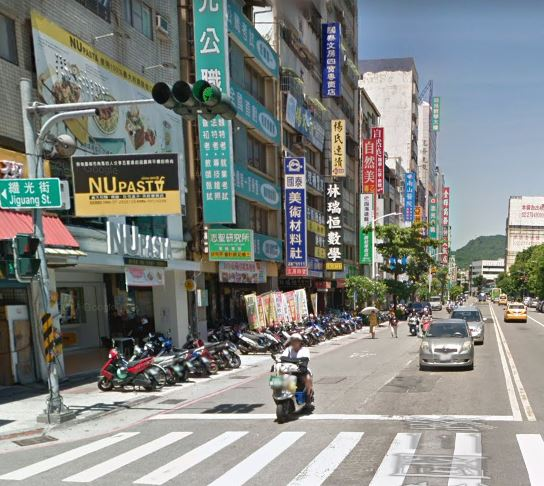Traffic_light_green: (151, 79, 239, 123)
car: (419, 317, 476, 374)
motorcycle: (268, 351, 319, 426), (407, 314, 419, 336)
